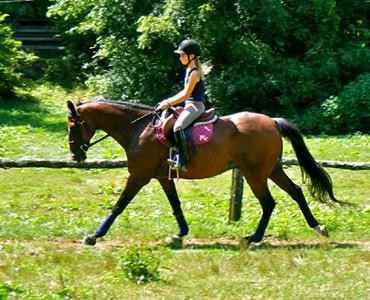person: (152, 38, 207, 171)
